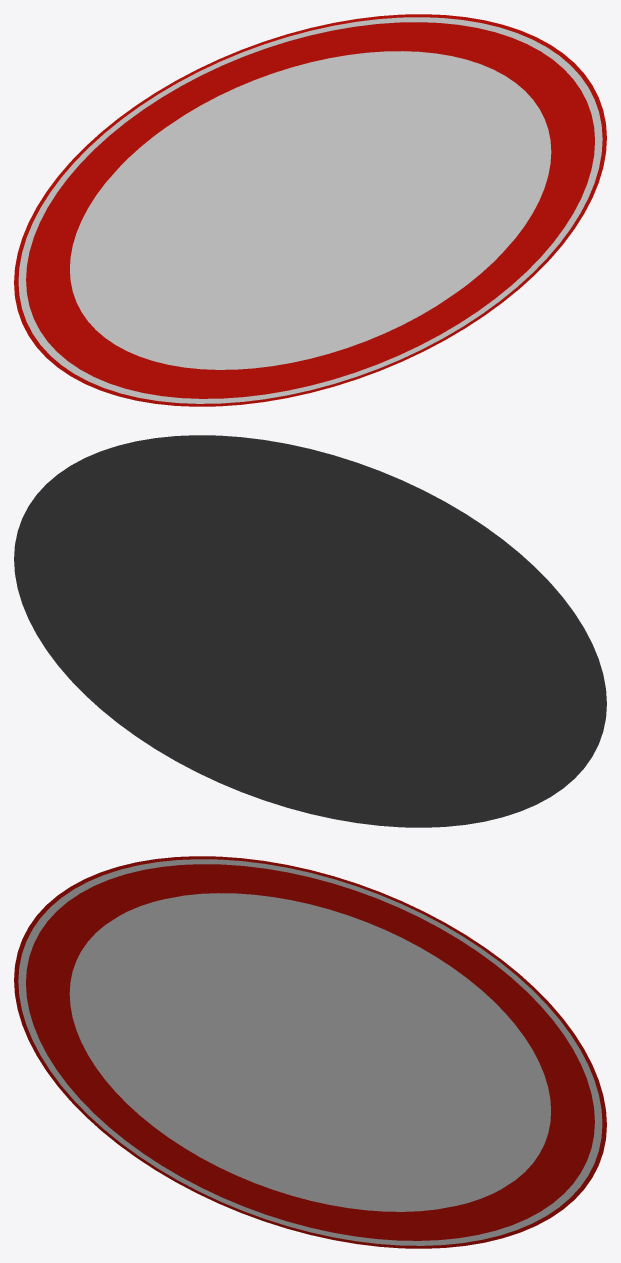
The model's file is 地面标识-MaxSpeedLimitOther.gltf.
3 renders of one model, top to bottom at view 1: azimuth 30°, elevation 25°; view 2: azimuth 150°, elevation 25°; view 3: azimuth 330°, elevation 25°, orthographic.
Parts seen in each view (by area): view 1: 圆环.001; view 2: 圆环.001; view 3: 圆环.001.
Boxes of the visible parts, bbox=[...] form: 圆环.001: bbox=[14, 14, 606, 406]; 圆环.001: bbox=[14, 435, 606, 827]; 圆环.001: bbox=[14, 856, 606, 1248].
Size of the model in its own units: 3.83 by 2.25 by 0.000819.
